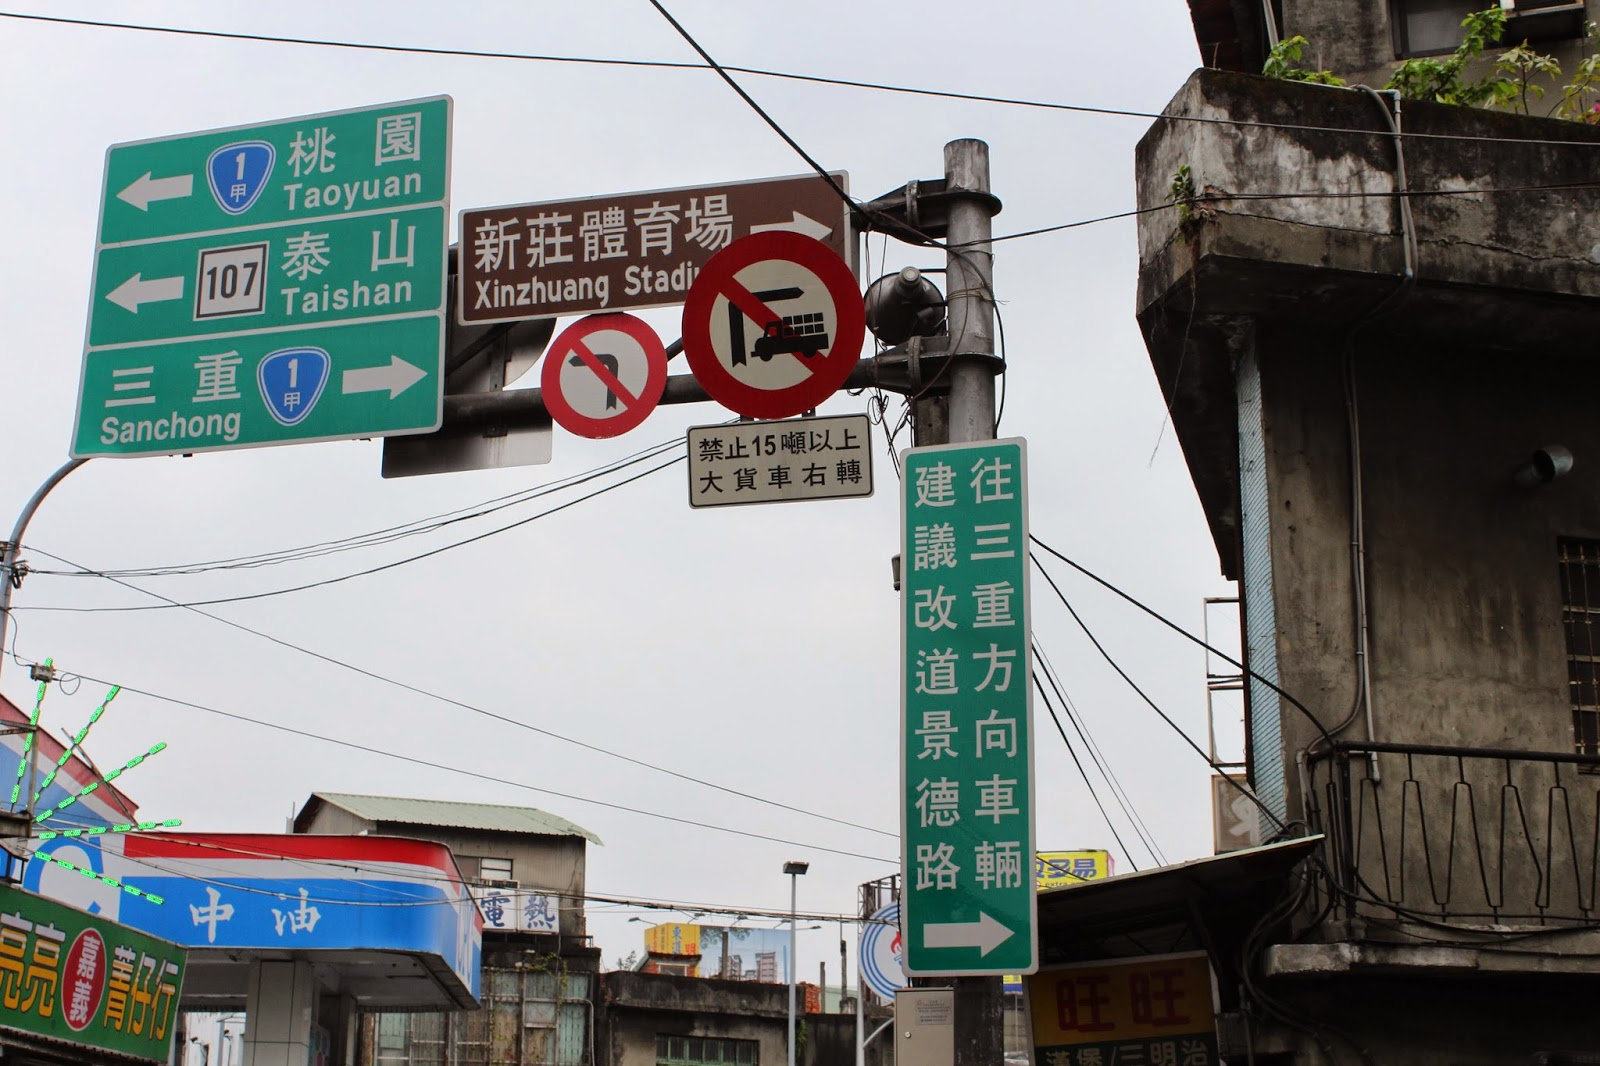No_left_turn: (541, 314, 669, 440)
